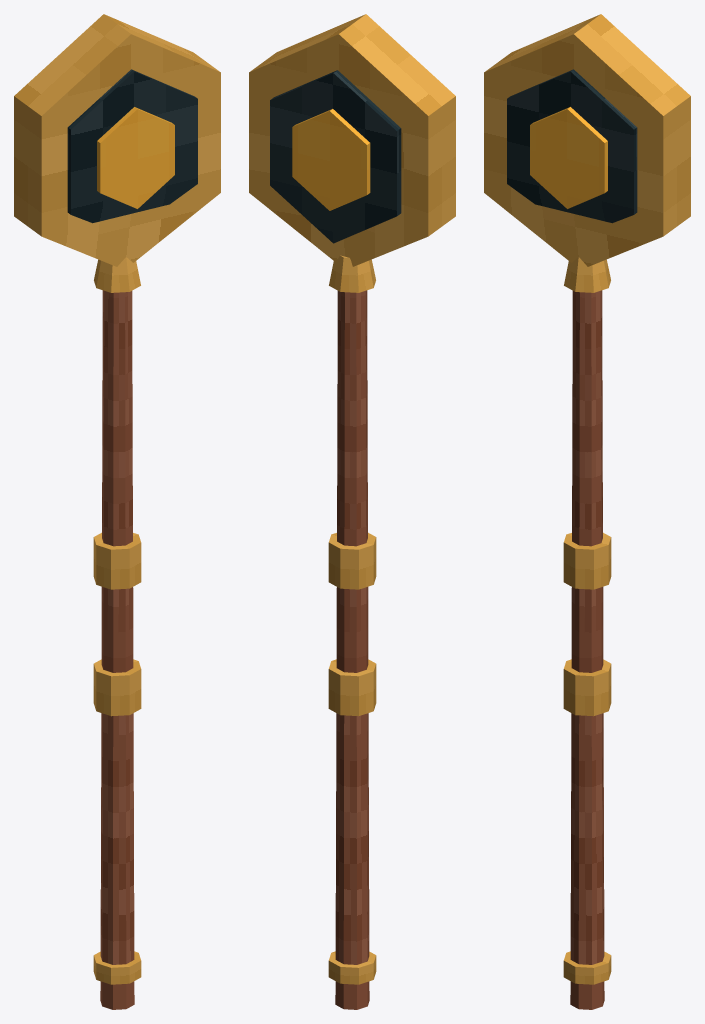
The model's file is proxy-staff.glb.
3 renders of one model, left to right at view 1: azimuth 30°, elevation 25°; view 2: azimuth 150°, elevation 25°; view 3: azimuth 330°, elevation 25°, orthographic.
Visible parts, largest first — view 1: SF_Proxy_Staff.001; view 2: SF_Proxy_Staff.001; view 3: SF_Proxy_Staff.001.
Part boxes in pixels (box(x1,y1,x2,y2)): SF_Proxy_Staff.001: box(14, 14, 220, 1009); SF_Proxy_Staff.001: box(249, 14, 455, 1009); SF_Proxy_Staff.001: box(484, 14, 690, 1009).
Bounding box in the file's own units: 0.1409 × 0.7349 × 0.0583.
Materials: 1 (1 with a texture image).
